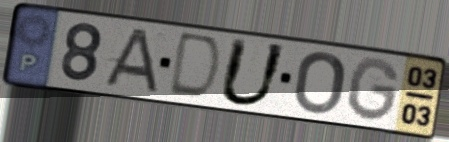8: (59, 21, 105, 84)
A: (98, 27, 162, 96)
D: (164, 30, 225, 103)
G: (346, 55, 403, 125)
O: (292, 49, 349, 116)
U: (215, 35, 291, 109)
